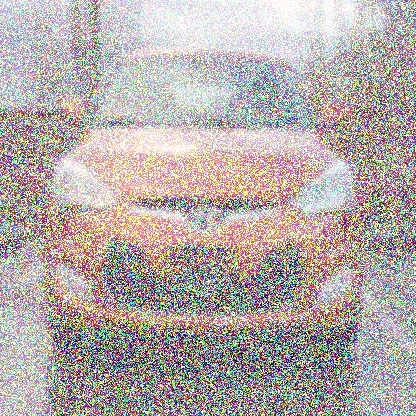Vehicle: (44, 49, 364, 356)
